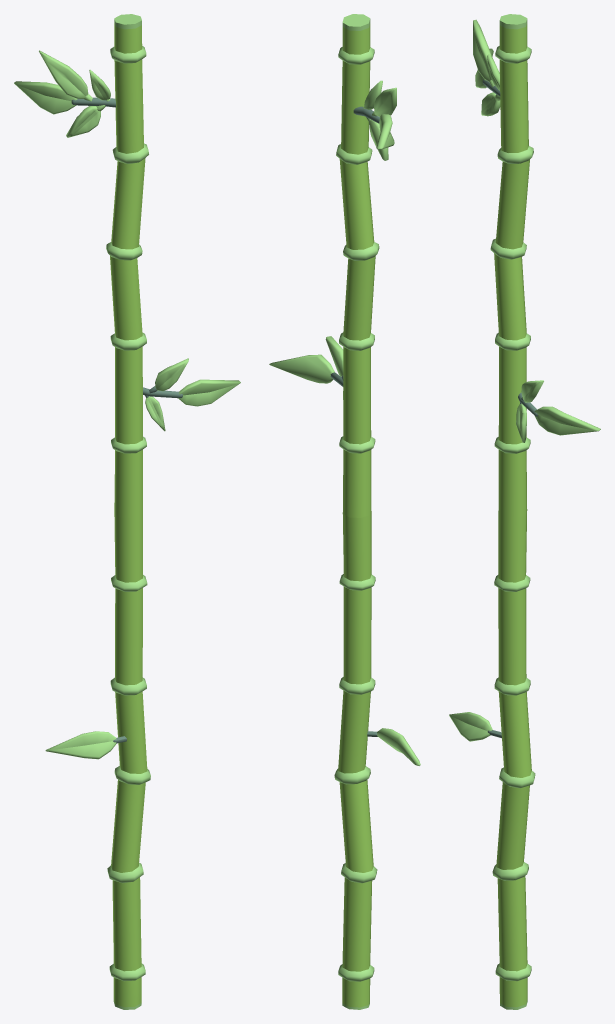
The model's file is Bamboo.fbx.
3 views of the same model, side by side, from view 1: azimuth 30°, elevation 25°; view 2: azimuth 150°, elevation 25°; view 3: azimuth 330°, elevation 25° (orthographic).
Visible parts, largest first — view 1: Bamboo; view 2: Bamboo; view 3: Bamboo.
Boxes of the visible parts, bbox=[...] form: Bamboo: bbox=[14, 14, 240, 1009]; Bamboo: bbox=[269, 14, 420, 1009]; Bamboo: bbox=[449, 14, 600, 1009].
Bounding box in the file's own units: 0.6733 × 3.68 × 0.439.
